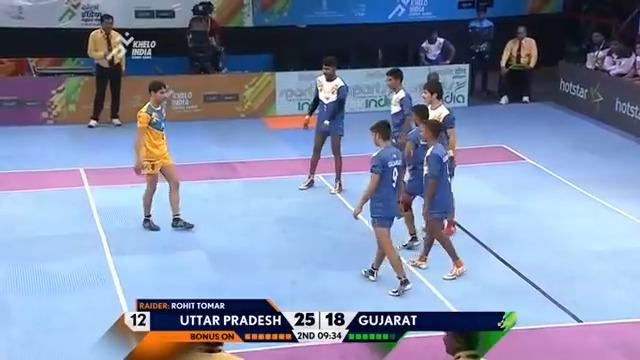Player: (352, 119, 412, 296), (407, 118, 466, 279), (298, 55, 348, 194), (86, 13, 126, 127), (384, 67, 413, 148)
Raider: (132, 81, 194, 232)
referee: (498, 24, 538, 104), (185, 0, 225, 74), (464, 4, 495, 96)
